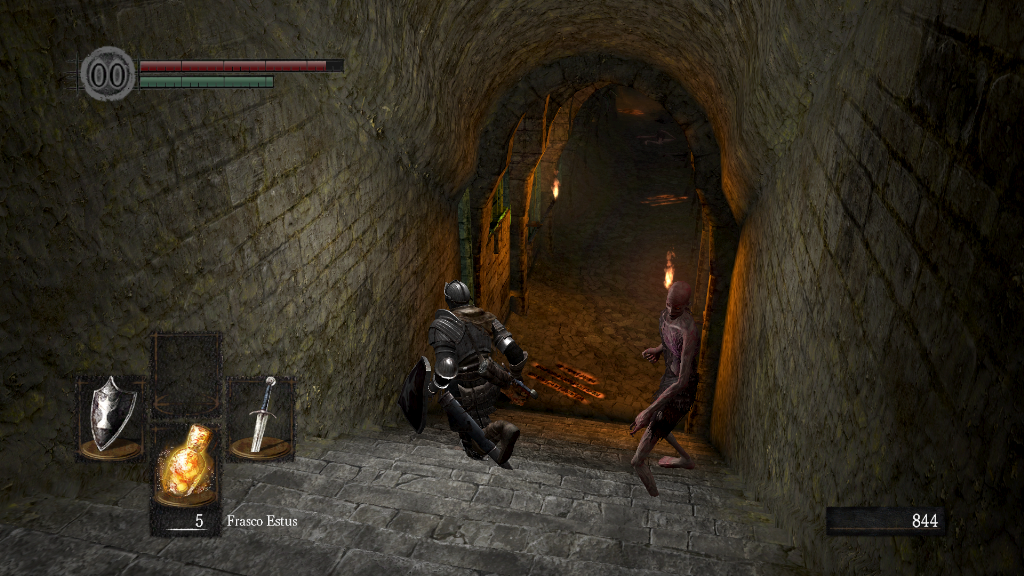health: (138, 58, 343, 71)
hollow: (628, 280, 703, 499)
humanity: (80, 45, 136, 102)
player: (398, 280, 539, 470)
souls: (825, 506, 945, 536)
stamina: (138, 74, 274, 88)
